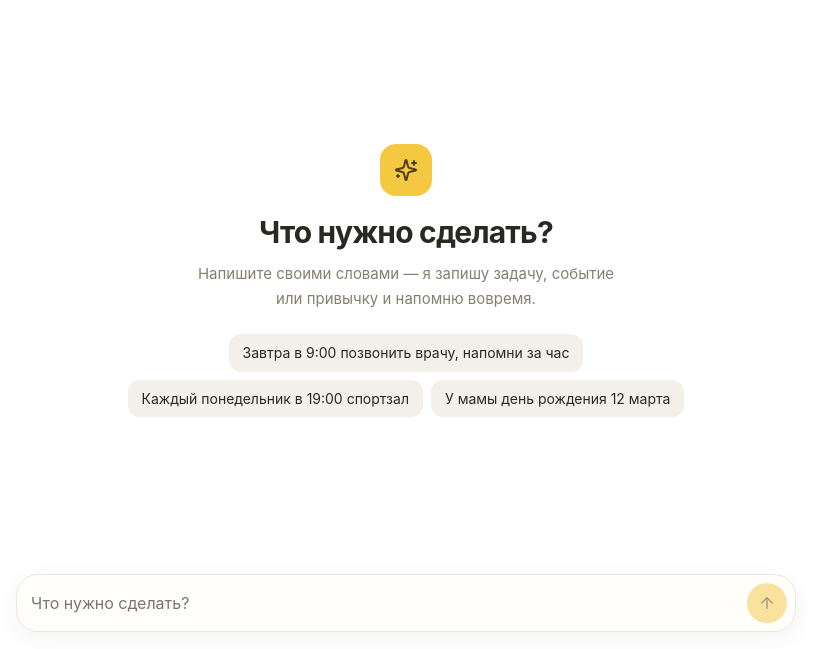
Test case: saves a proposed event only after explicit confirmation and prevents another save
The image size is (813, 649).
Type "Завтра в 18:00 встреча" into the text box named "Сообщение помощнику".
click(385, 603); type("Завтра в 18:00 встреча")  # box top-left (31, 583), bottom-right (739, 623)
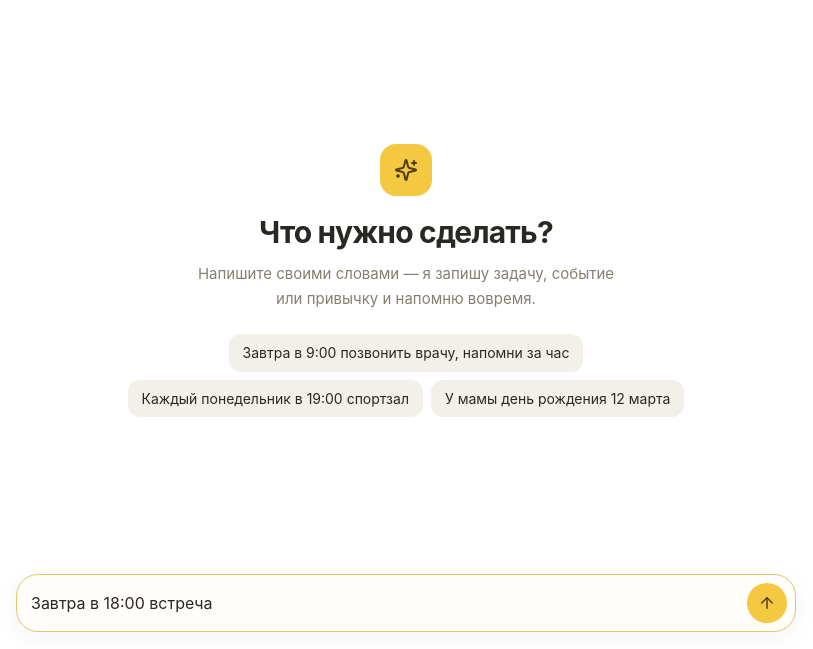
Click the button named "Отправить сообщение".
click(767, 603)  # box top-left (747, 583), bottom-right (787, 623)
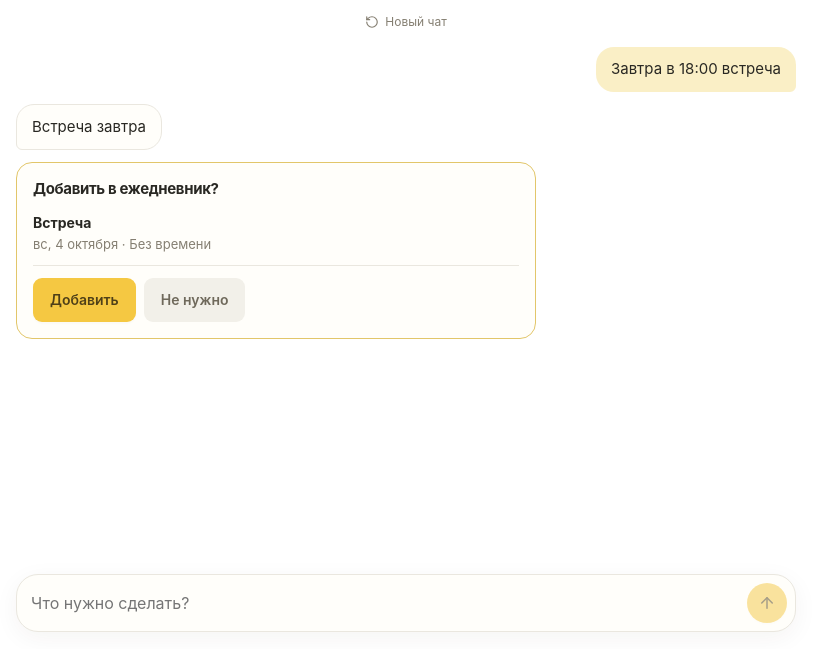
Now the text "Встреча завтра" is shown, box top-left (32, 116), bottom-right (146, 138)
Click the button "Добавить".
click(84, 300)  # box top-left (33, 278), bottom-right (136, 322)
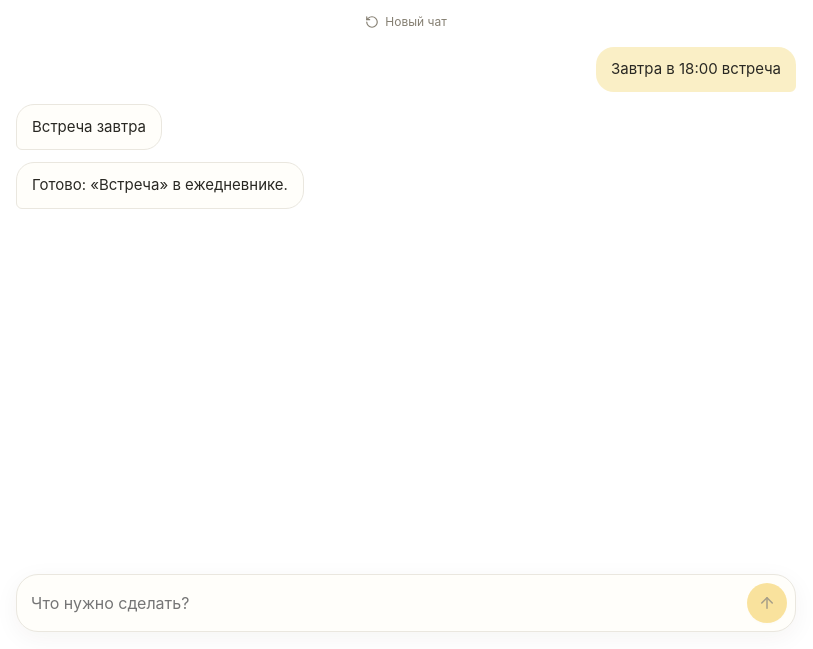
Now the heading "Добавить" is gone
